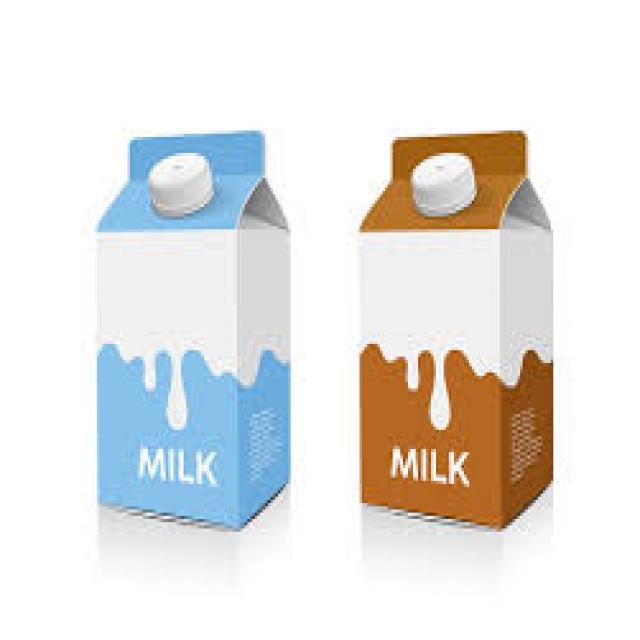non_white_jug: (352, 110, 566, 540), (91, 119, 297, 540)
